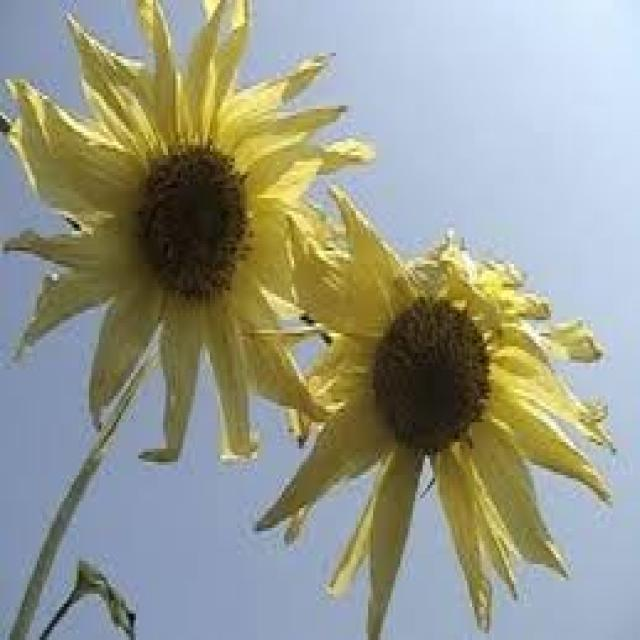sunflower: (1, 0, 380, 481), (242, 168, 625, 640)
